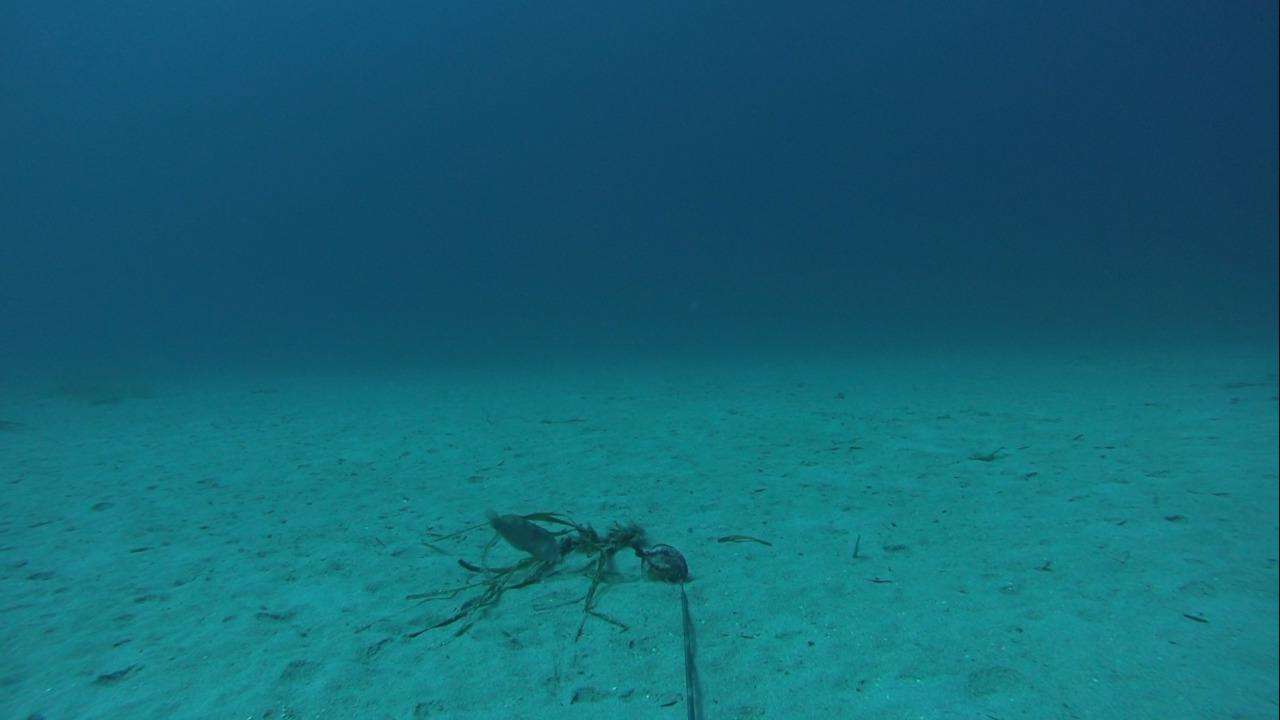raor: (475, 499, 569, 571)
